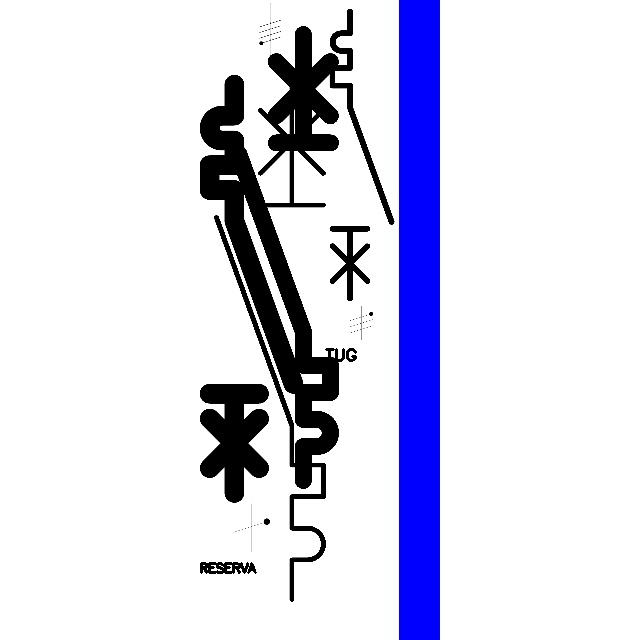interruptor_termomagnetico: (203, 64, 337, 612), (227, 23, 342, 492), (199, 74, 304, 503), (325, 4, 399, 306)
